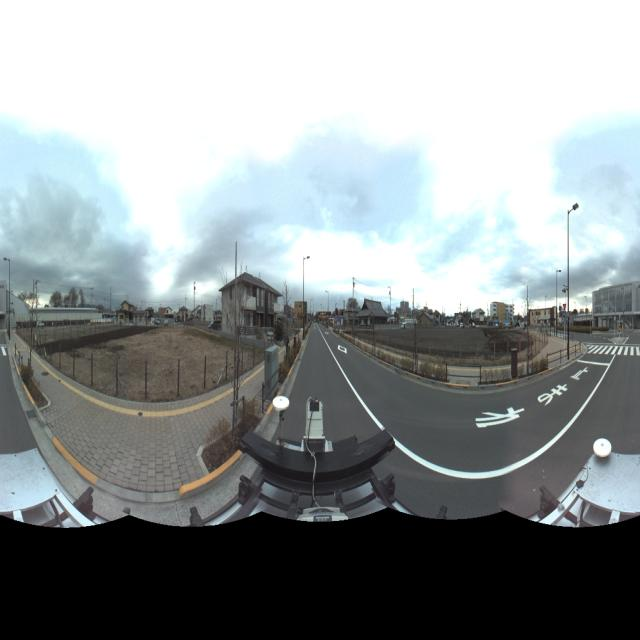b_1: (220, 255, 266, 345), (591, 277, 639, 339), (264, 277, 283, 334), (525, 296, 557, 328), (360, 291, 386, 328), (488, 298, 516, 330)
